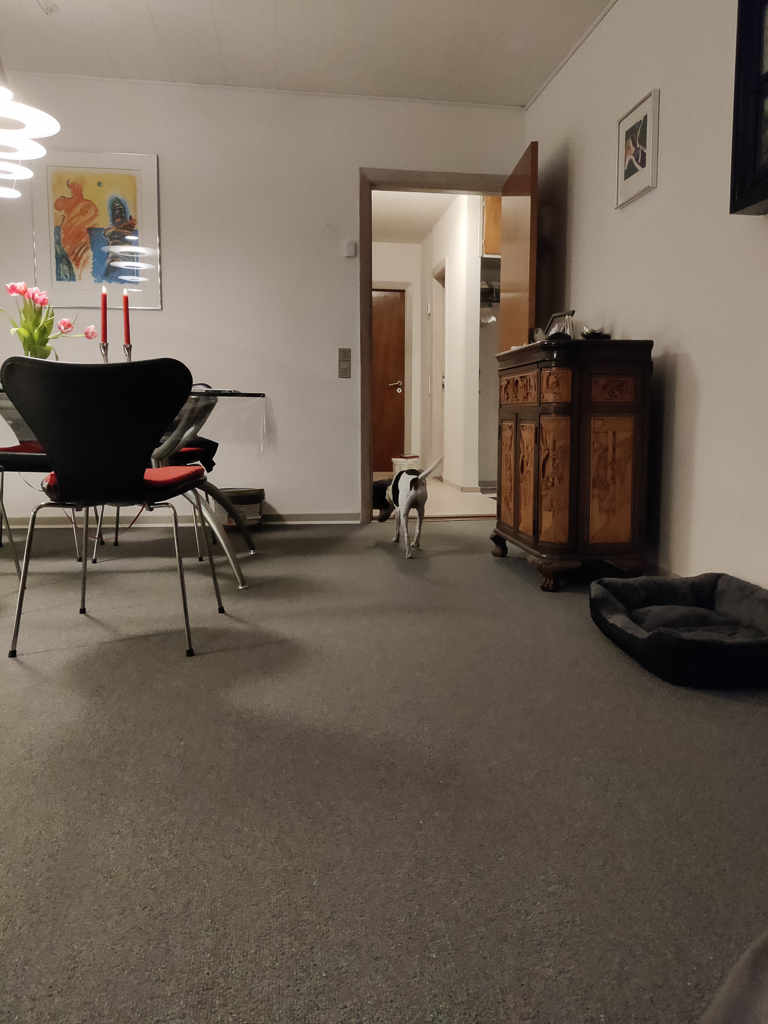Dog: (367, 445, 451, 563)
Humanoid: (686, 908, 768, 1024)
